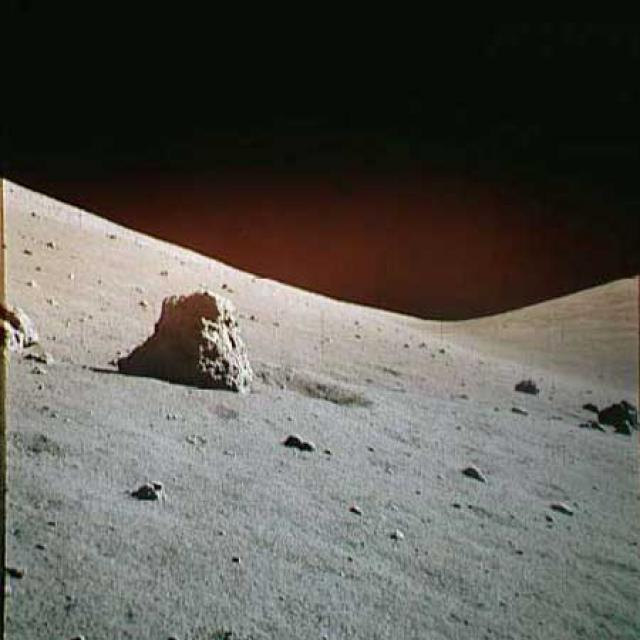crater: (262, 366, 366, 412)
rock: (109, 282, 252, 393), (596, 395, 638, 438), (0, 304, 37, 351), (134, 474, 170, 504), (509, 374, 542, 396), (462, 462, 486, 486), (276, 430, 301, 447), (304, 441, 317, 457)
